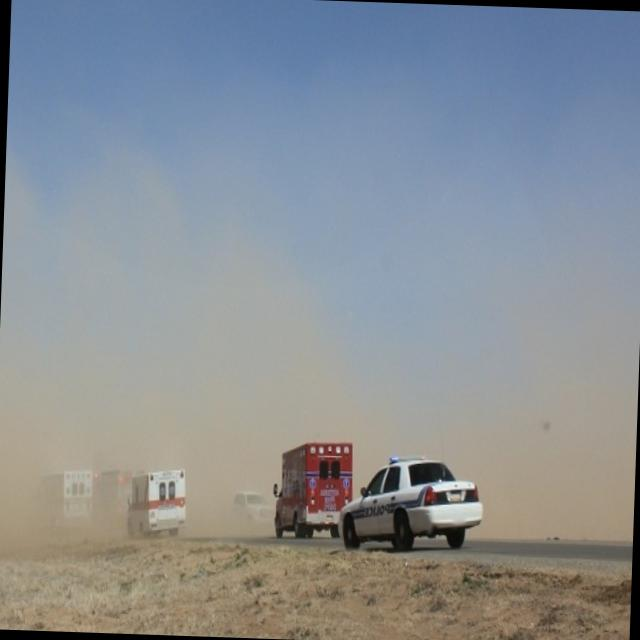car: (342, 449, 486, 551), (26, 464, 94, 537), (129, 463, 188, 536), (222, 479, 276, 528), (92, 468, 131, 534)
